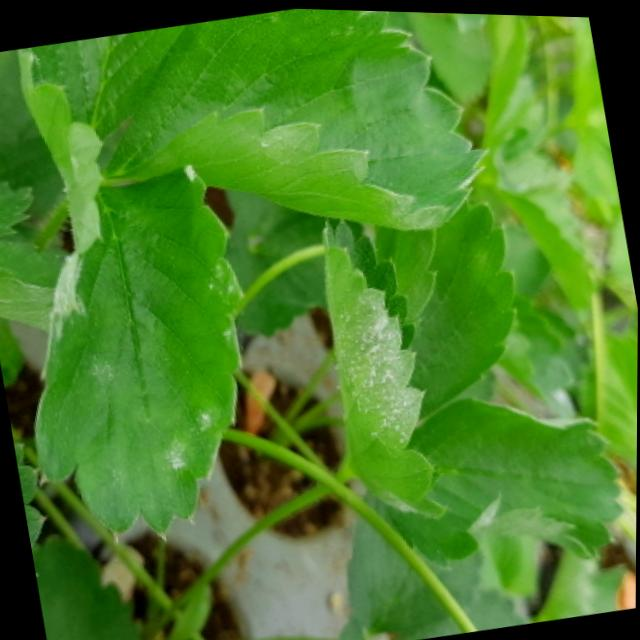Powdery Mildew Leaf: (34, 160, 246, 541), (320, 215, 449, 517)
